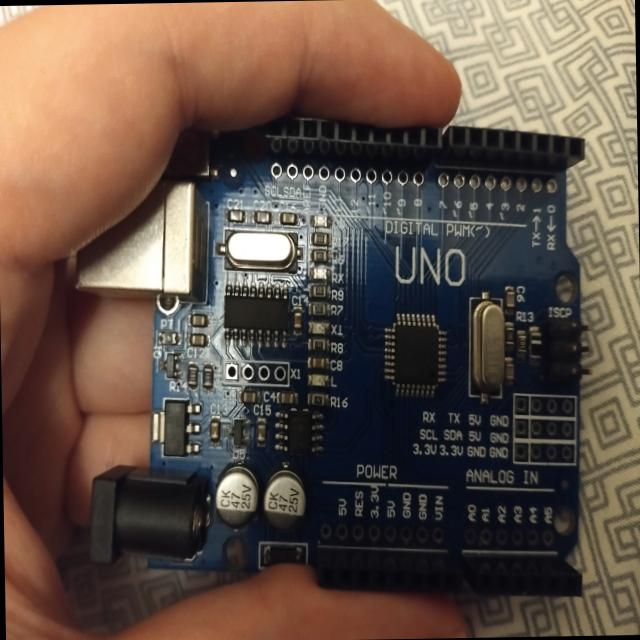arduino: (73, 84, 603, 618)
